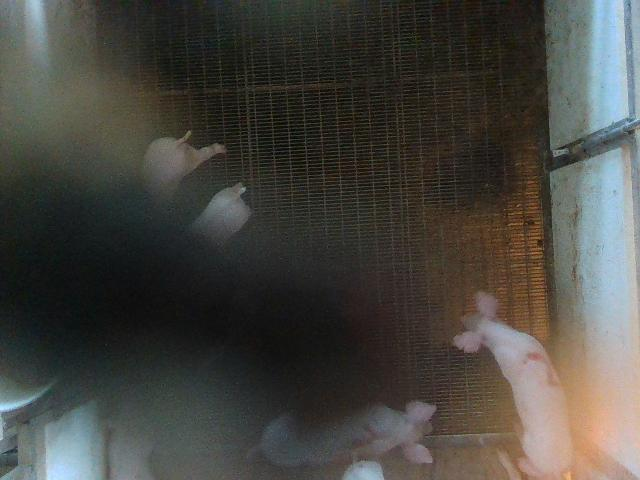pig-2: (454, 294, 572, 478)
